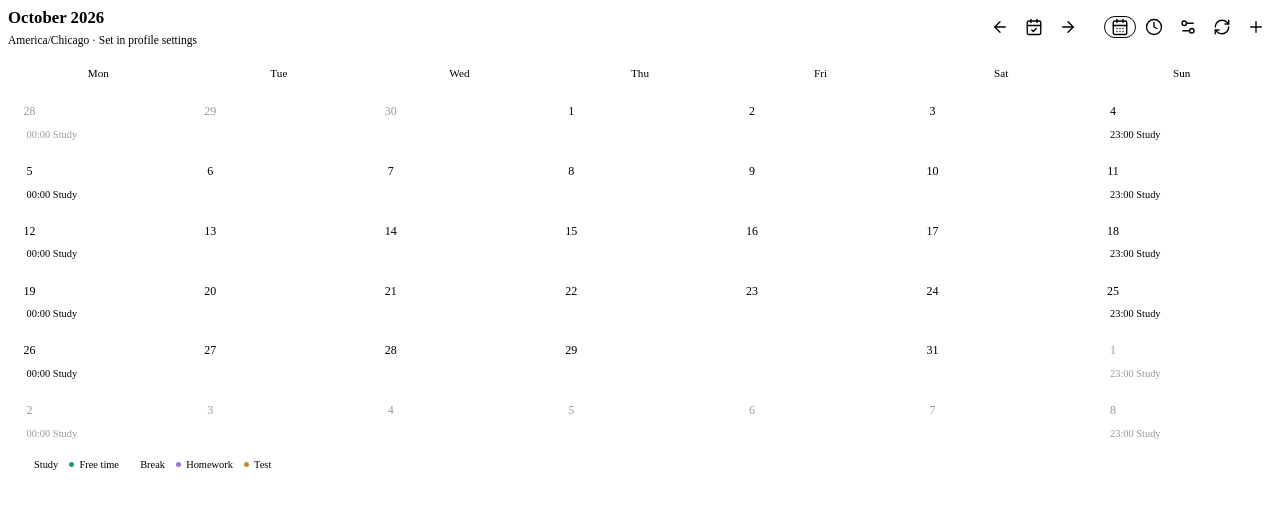
it: opens a monthly calendar without timezone editing and schedules a linked test
Click the button named "Add calendar activity" at (1256, 27), box [1240,16,1272,38]
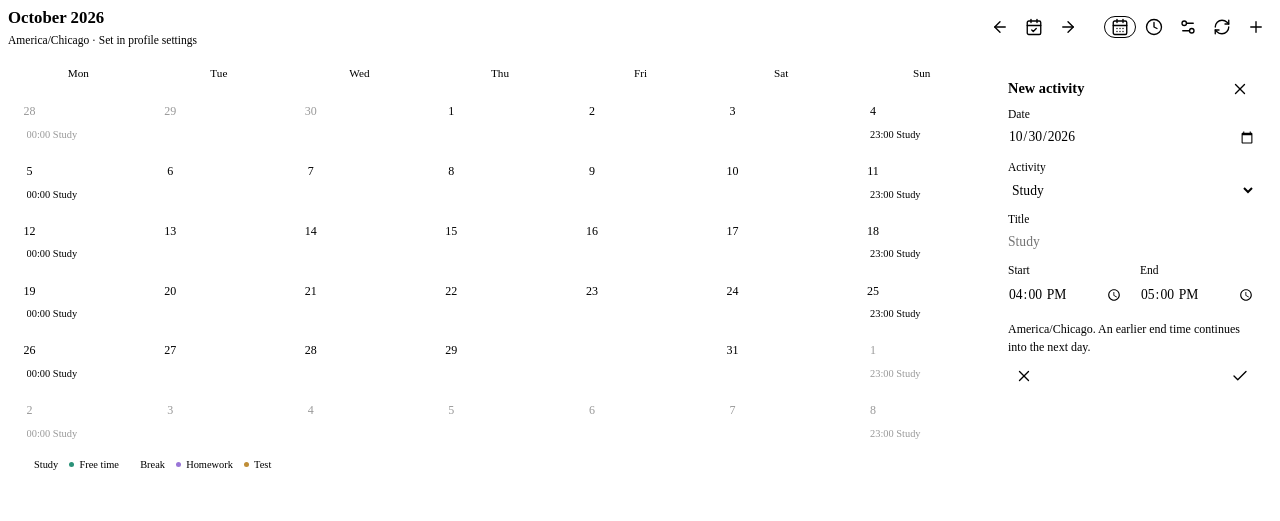
Result: the dropdown named "Calendar activity" is shown
Select "Test" in the dropdown named "Calendar activity" at (1132, 190), box [1008,177,1256,203]
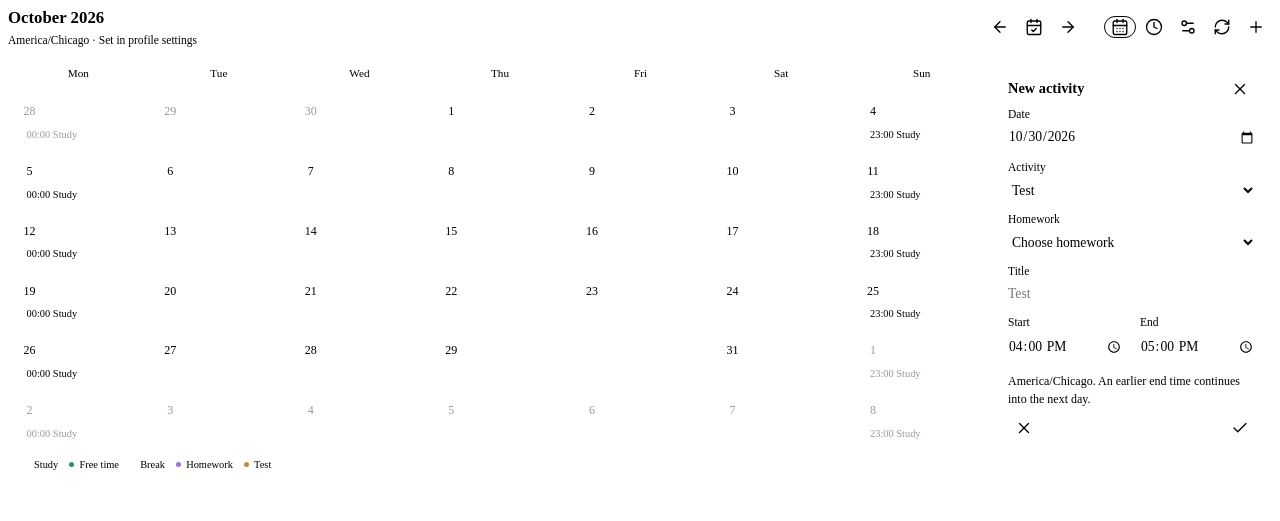
Select "Fractions" in the dropdown named "Scheduled homework" at (1132, 242), box [1008,229,1256,256]
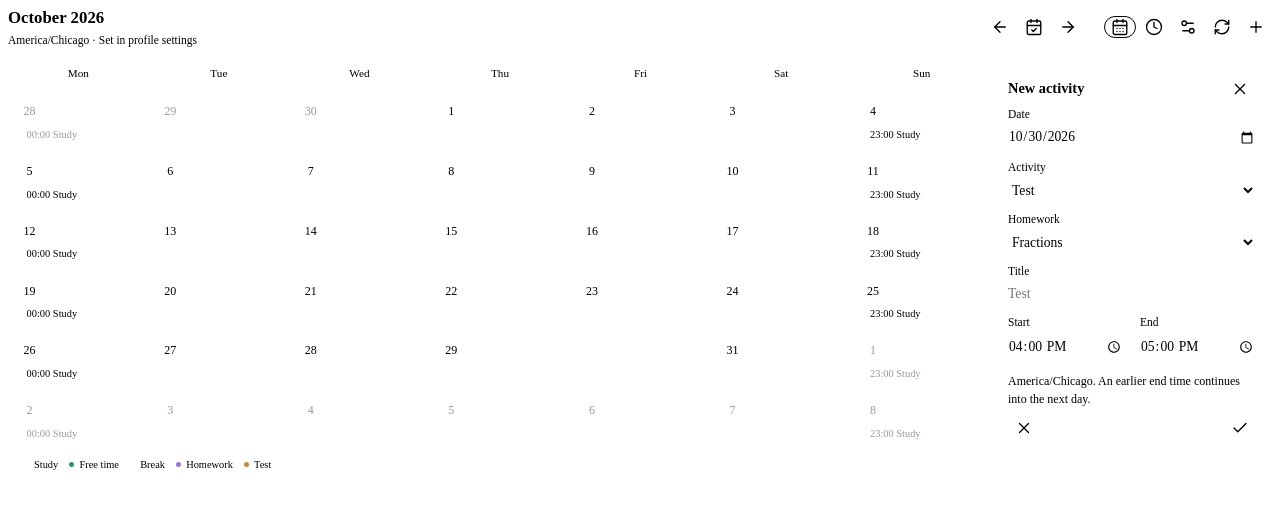
Click the button named "Save calendar activity" at (1240, 428), box [1224,417,1256,439]
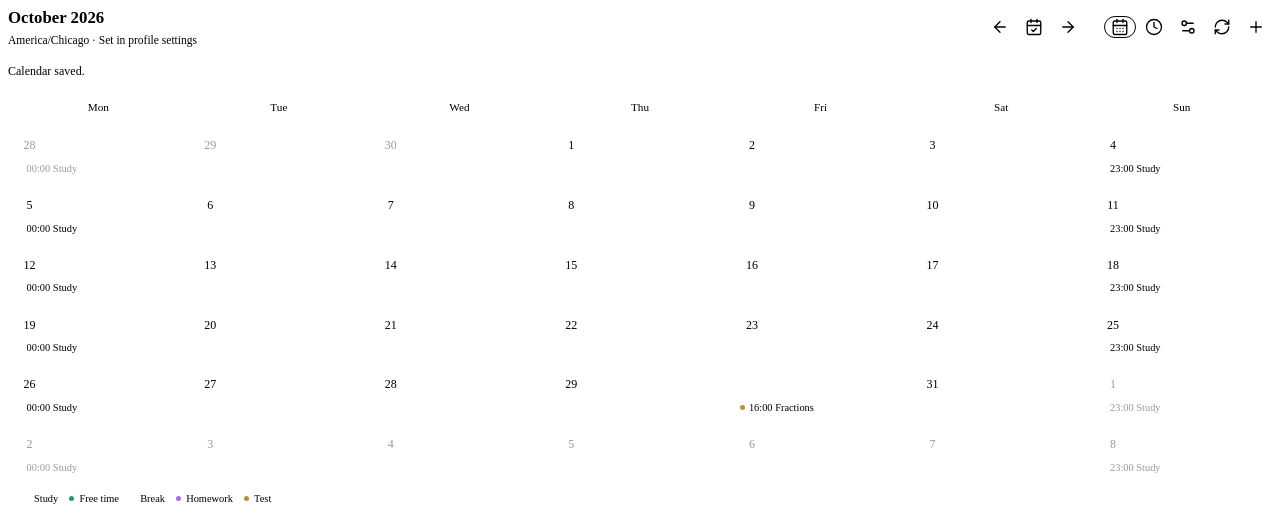
Result: the text "Calendar saved." is shown at [8,64,85,78]
Click the button named "Day view" at (1154, 27), box [1138,16,1170,38]
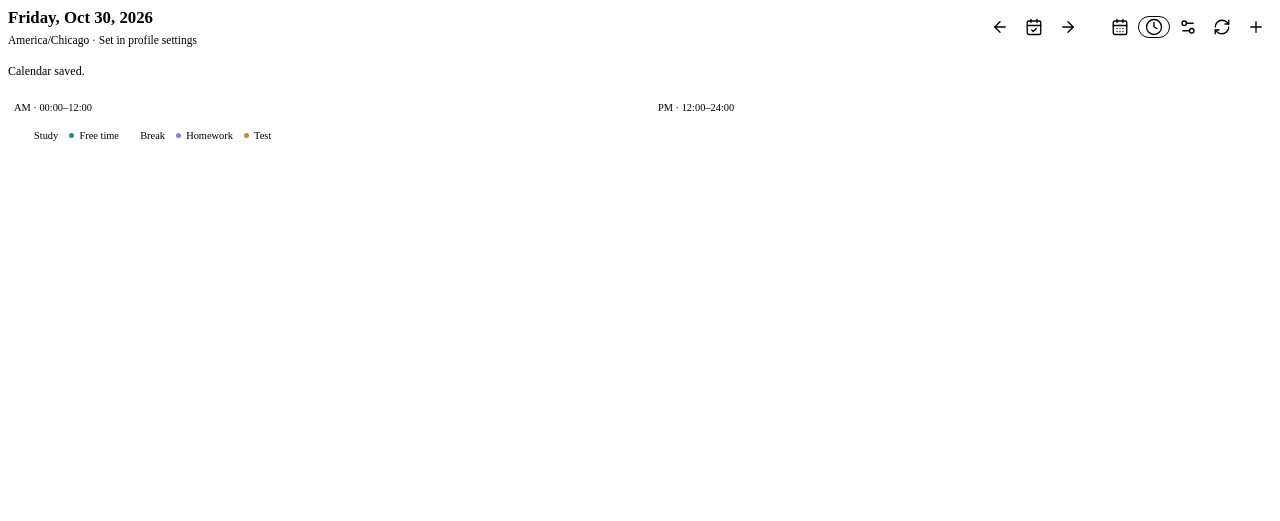
Result: the element named "Hourly schedule" is shown at [8,96,1272,119]
